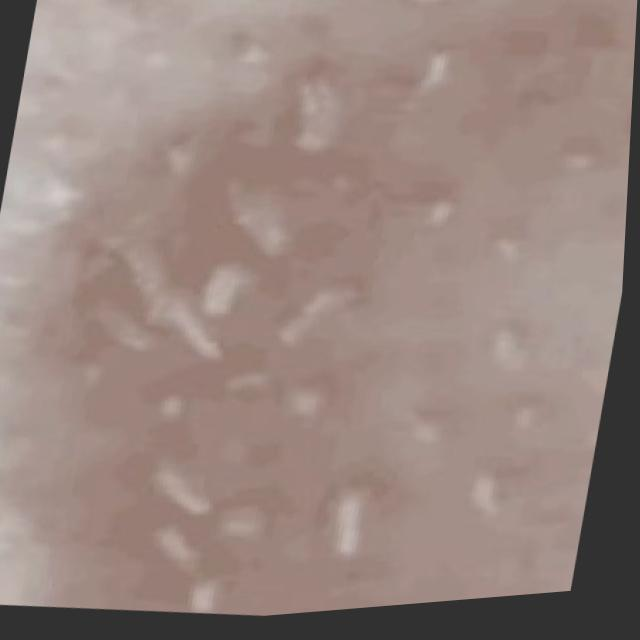whitehead: (25, 0, 635, 621)
